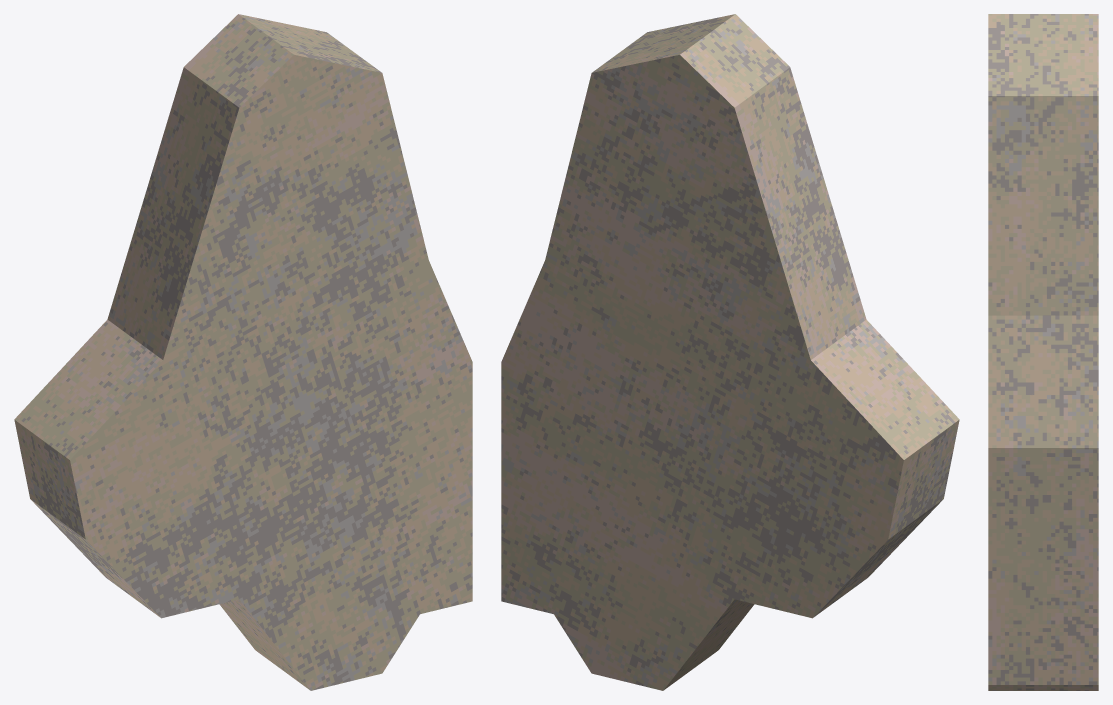
File: Rock2.fbx
3 renders of one model, left to right at view 1: azimuth 30°, elevation 25°; view 2: azimuth 150°, elevation 25°; view 3: azimuth 270°, elevation 25°, orthographic.
Parts seen in each view (by area): view 1: Plane.010; view 2: Plane.010; view 3: Plane.010.
Boxes of the visible parts, x1,y1,x2,y2 form: Plane.010: [14, 14, 472, 690]; Plane.010: [501, 14, 959, 690]; Plane.010: [988, 14, 1098, 690].
Size of the model in its own units: 151 by 230 by 36.24.
